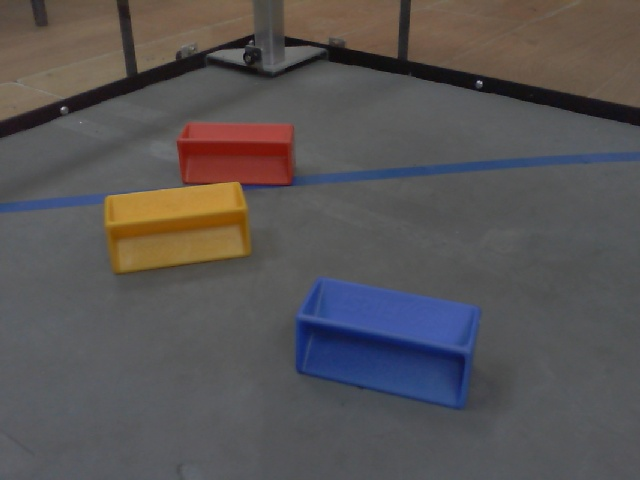BlueSample: (292, 273, 483, 414)
RedSample: (172, 119, 297, 193)
YellowSample: (102, 180, 254, 277)
